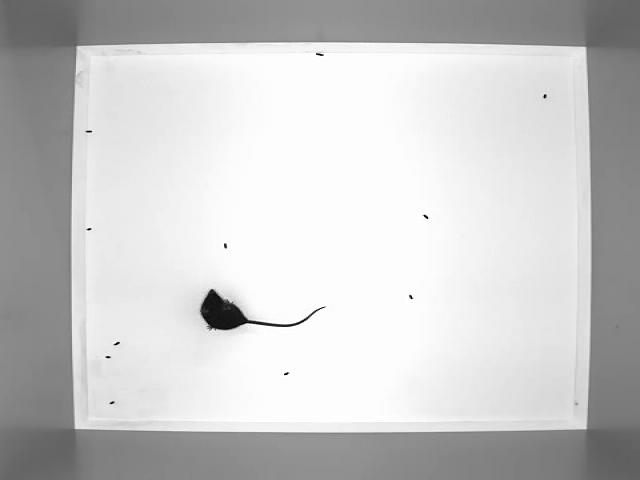Tikus: (199, 286, 327, 331)
